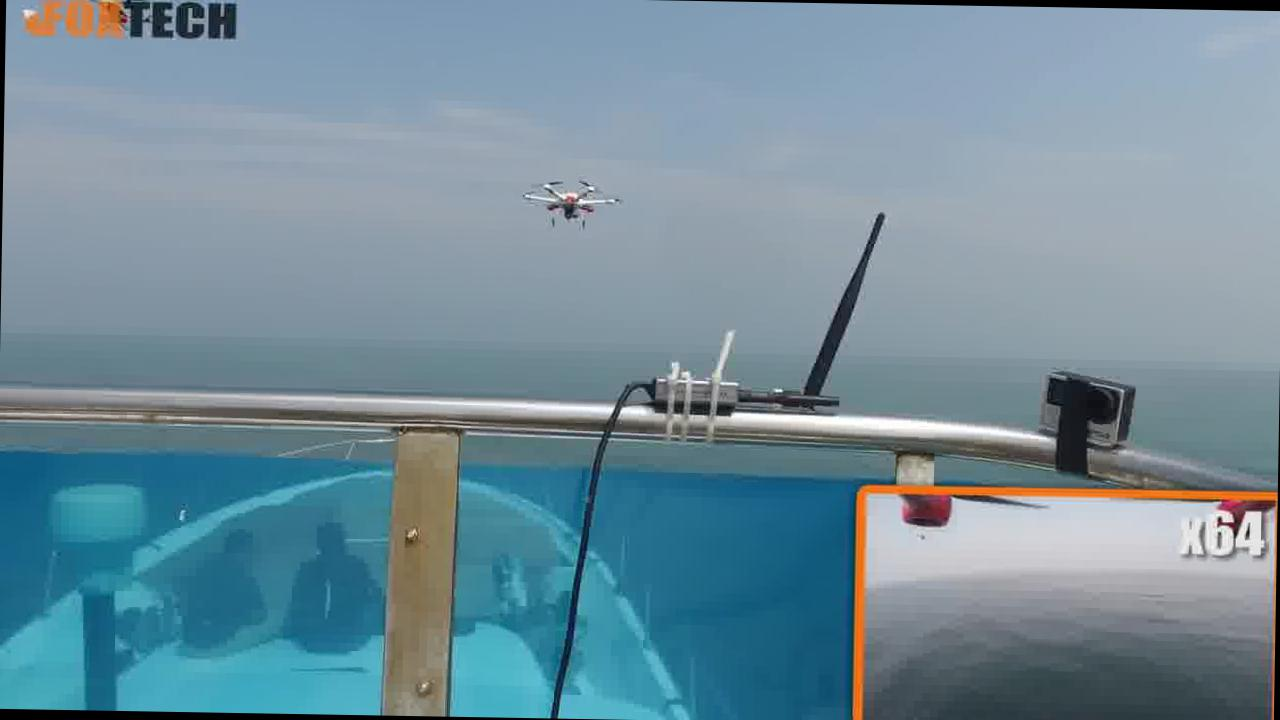drone: (507, 171, 637, 234)
